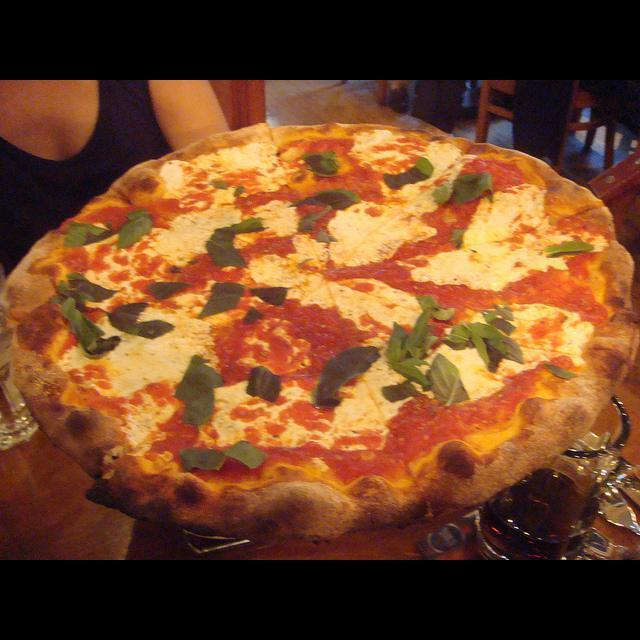chair: (478, 80, 622, 178)
cup: (481, 395, 632, 553), (0, 374, 36, 446)
dining table: (1, 428, 505, 560)
fork: (595, 484, 640, 536)
person: (3, 80, 229, 284)
pizza: (4, 124, 636, 536)
